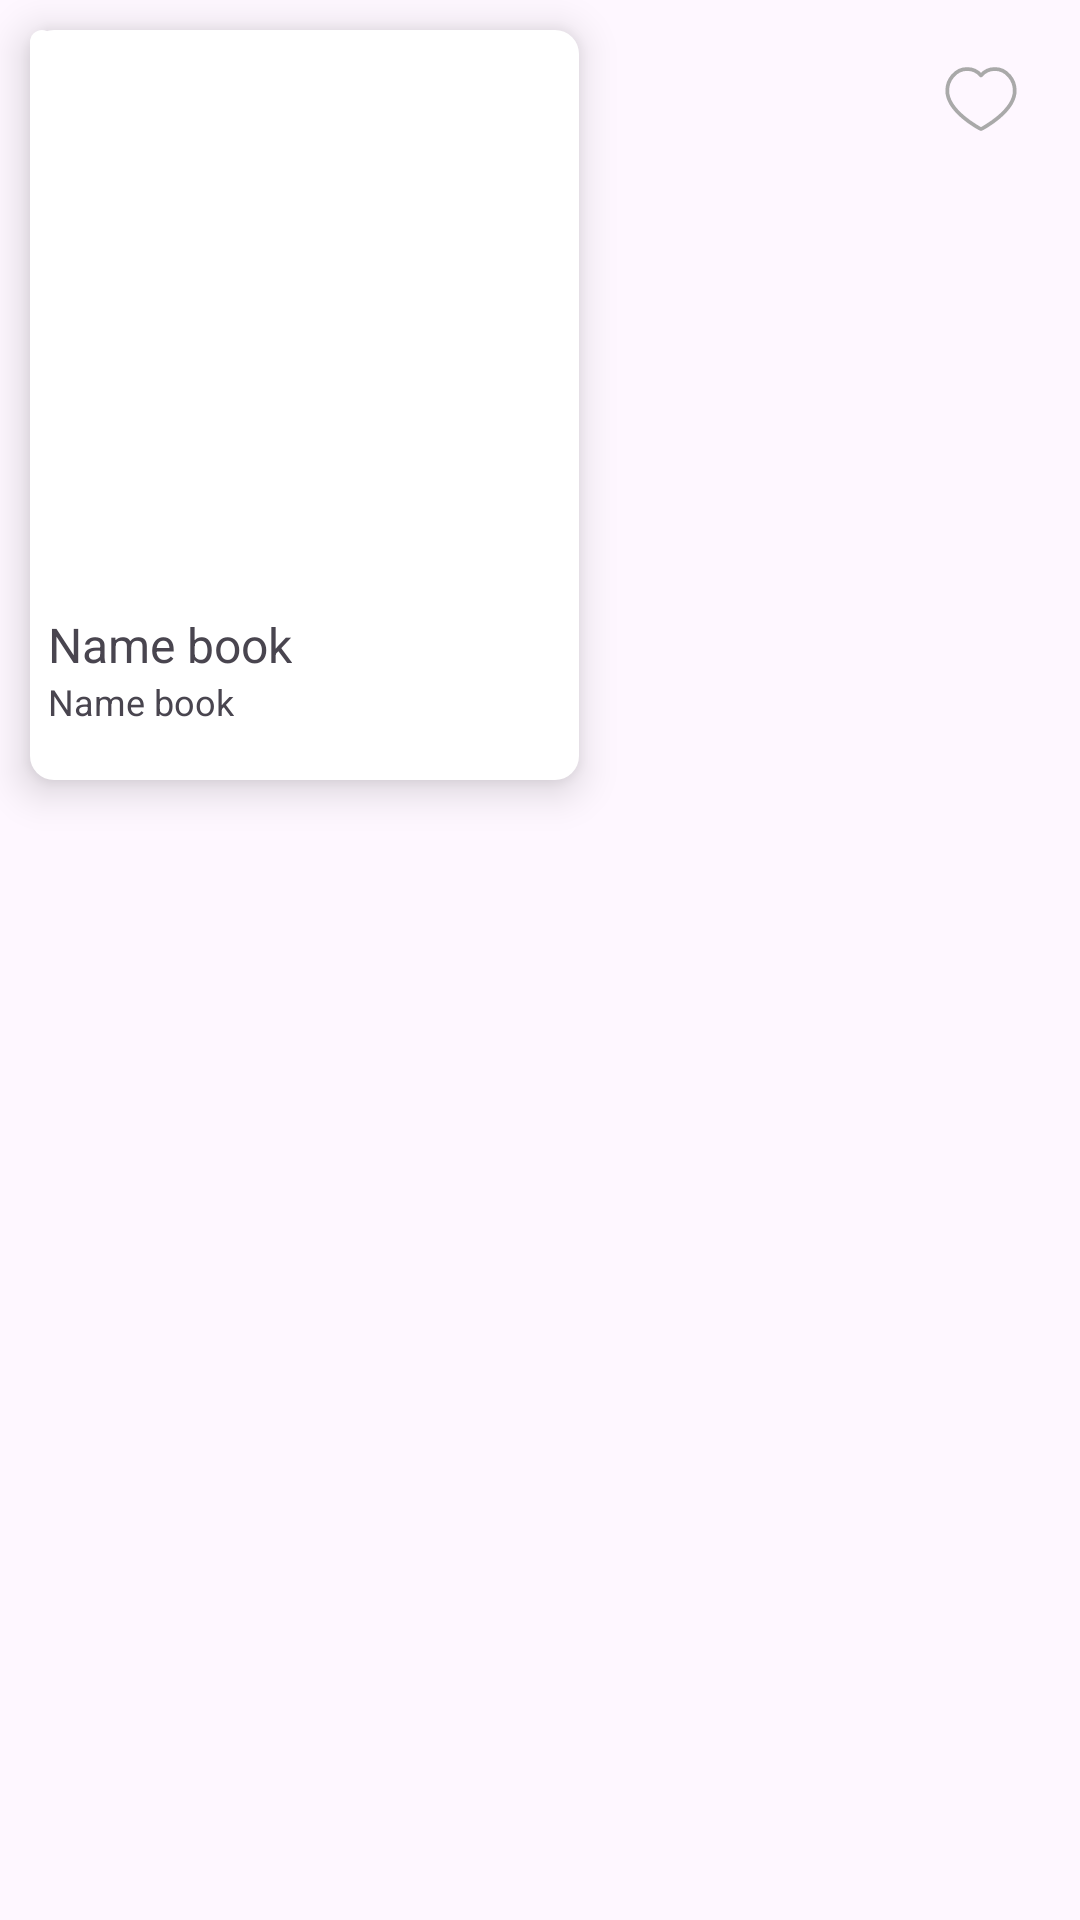

Where icons sit on this 1080*1920 app screen, as (x1, y1, x2, y2):
heart: (945, 67, 1017, 131)
